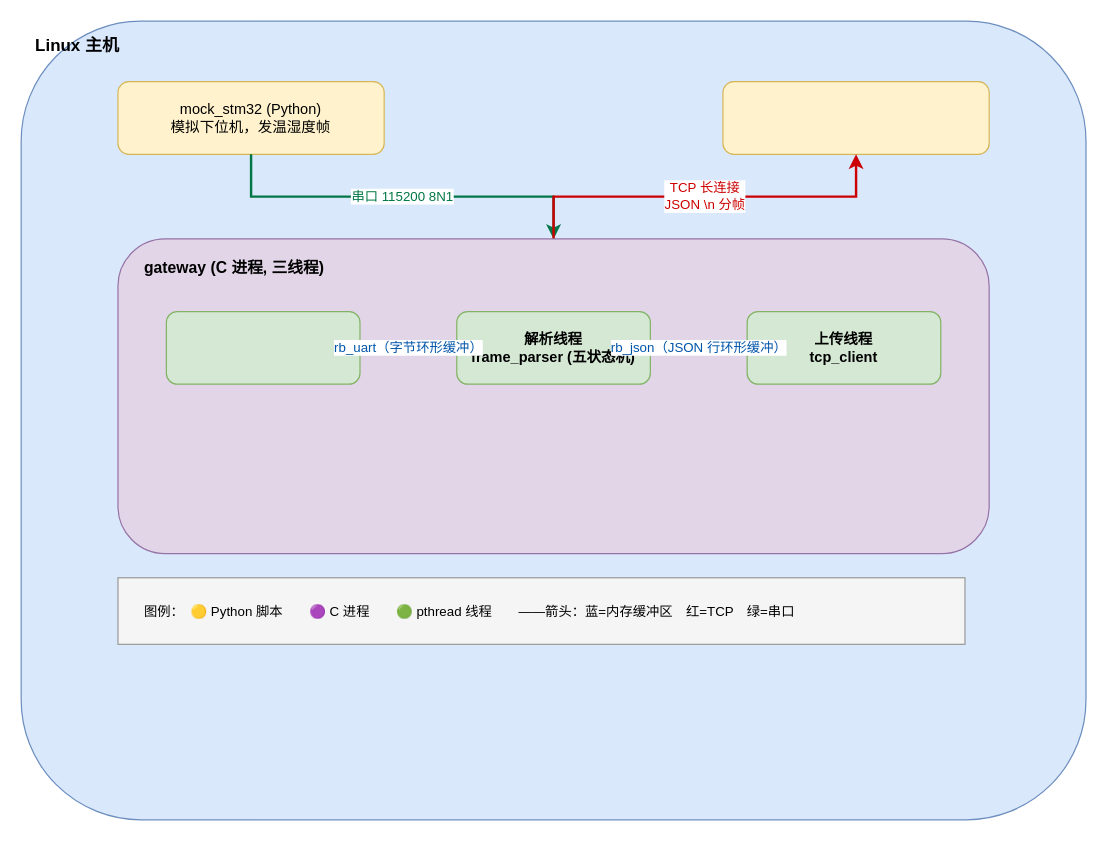
The diagram is 1107 pixels wide and 841 high, and some of its shapes have lost their labels. The shapes that lost their labels are listed below. From the top down, each one's centre as x and y in pixels, then its label:
At pixel 855 117: "tcp_server.py (Python) 按 \n 收 JSON 行".
At pixel 262 347: "采集线程 serial_read".
